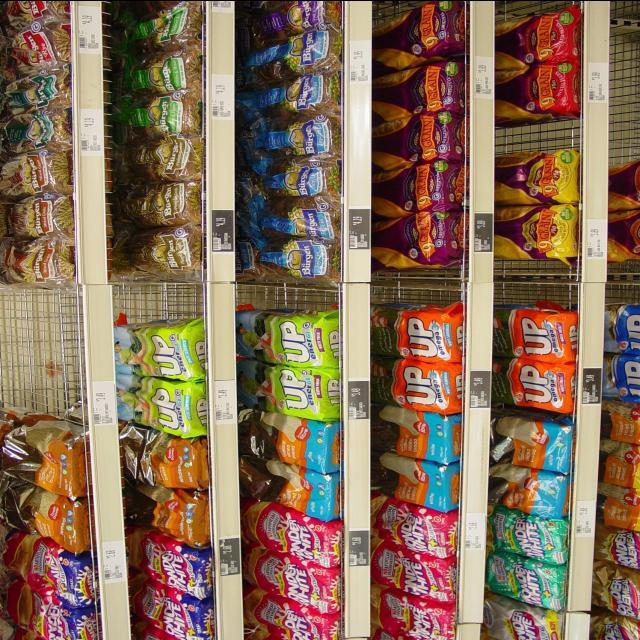empty_space: (3, 300, 79, 405), (615, 28, 640, 144), (123, 281, 193, 315), (498, 121, 582, 147), (503, 264, 565, 294), (382, 273, 466, 295), (254, 283, 330, 307)
